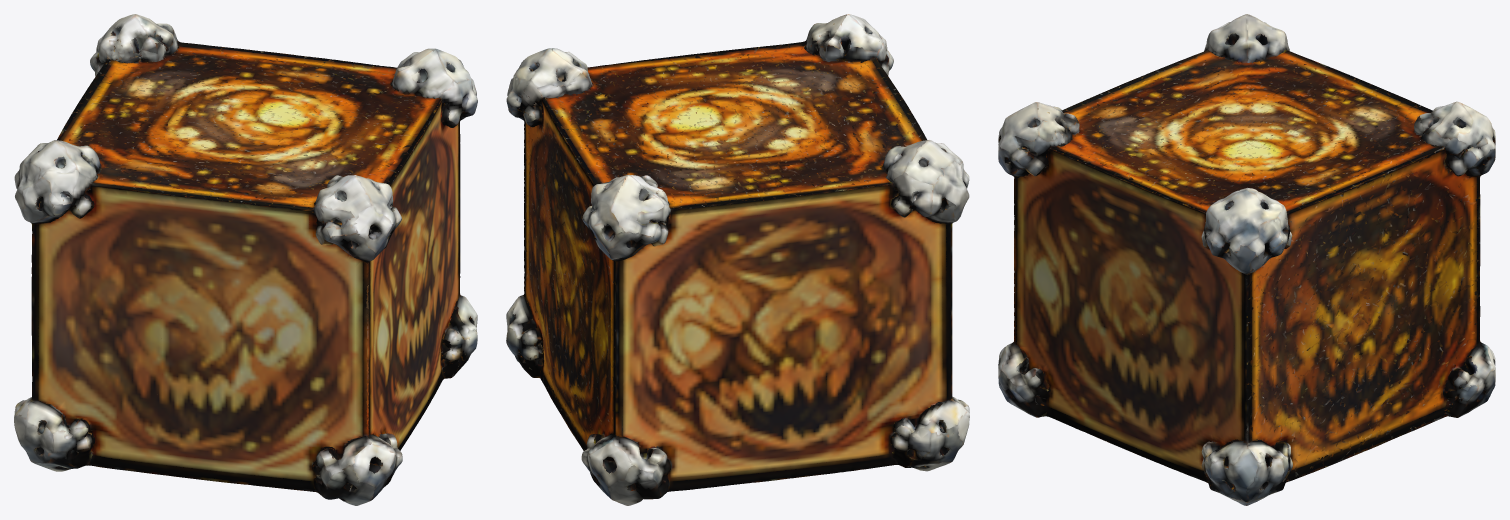
The picture shows the model from 3 angles, left to right: view 1: azimuth 30°, elevation 25°; view 2: azimuth 150°, elevation 25°; view 3: azimuth 270°, elevation 25°; orthographic projection. The views are drawn at different scales.
Visible parts, largest first — view 1: input; view 2: input; view 3: input.
Boxes of the visible parts, x1,y1,x2,y2 form: input: (14,14,477,505); input: (506,14,969,505); input: (998,14,1495,505).
Size of the model in its own units: 0.9997 by 0.6981 by 0.9974.
Materials: 1 (1 with a texture image).
